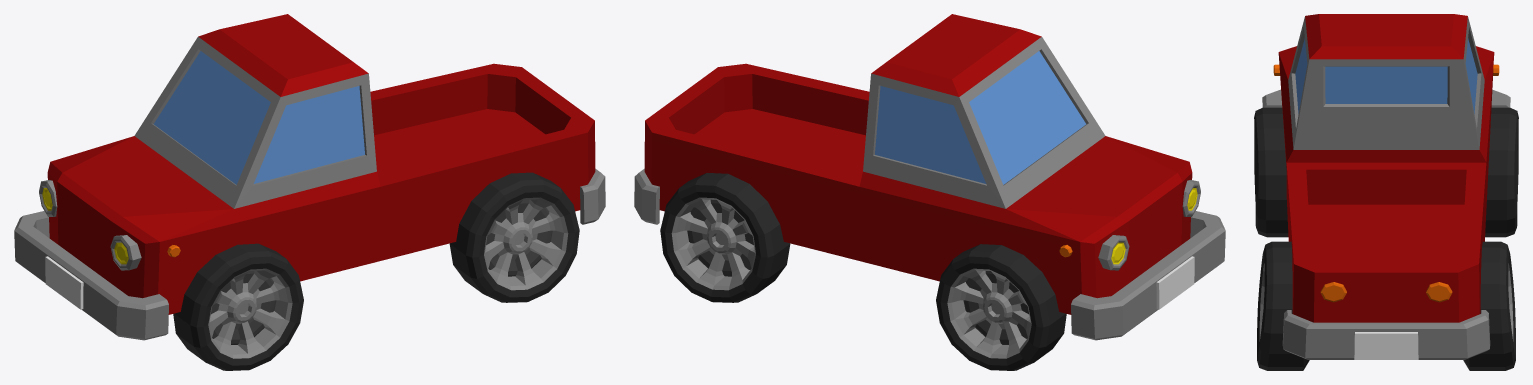
Rendered from Car-1.fbx.
3 renders of one model, left to right at view 1: azimuth 30°, elevation 25°; view 2: azimuth 150°, elevation 25°; view 3: azimuth 270°, elevation 25°, orthographic.
Visible parts, largest first — view 1: Car-1; view 2: Car-1; view 3: Car-1.
Part boxes in pixels (box(x1,y1,x2,y2)): Car-1: box(14, 14, 605, 370); Car-1: box(634, 14, 1225, 370); Car-1: box(1254, 14, 1518, 370).
Size of the model in its own units: 10.84 by 5.22 by 5.
